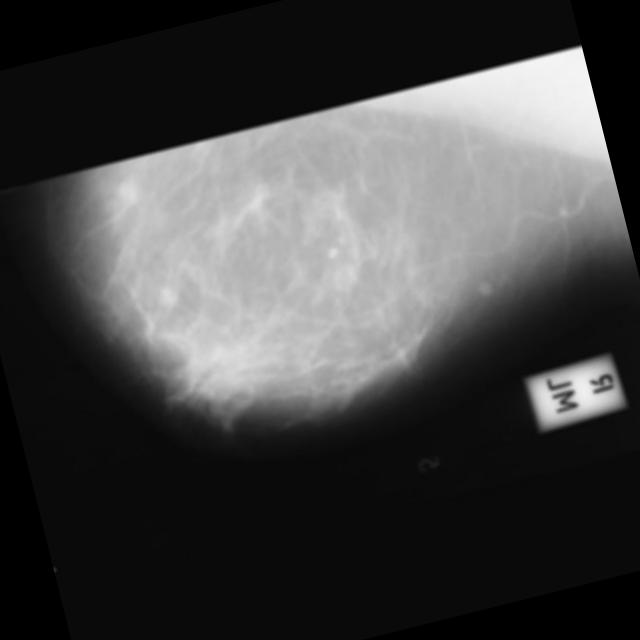MISC: (113, 178, 143, 208)
